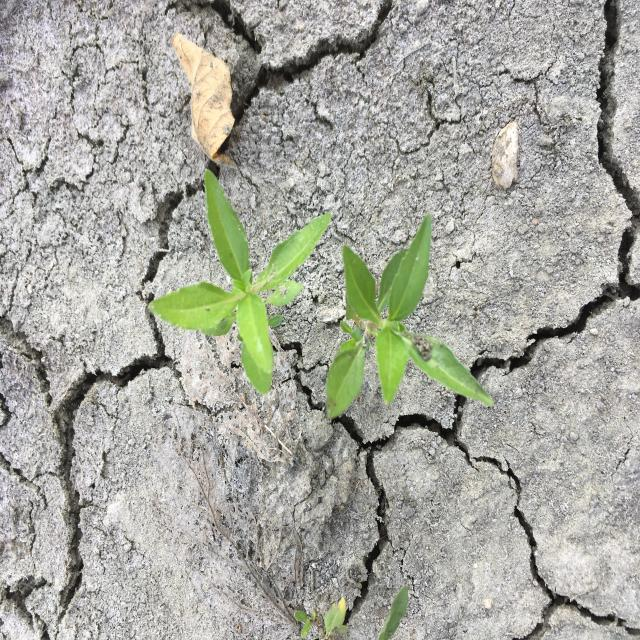Eclipta: (148, 167, 334, 397), (324, 210, 497, 421)
